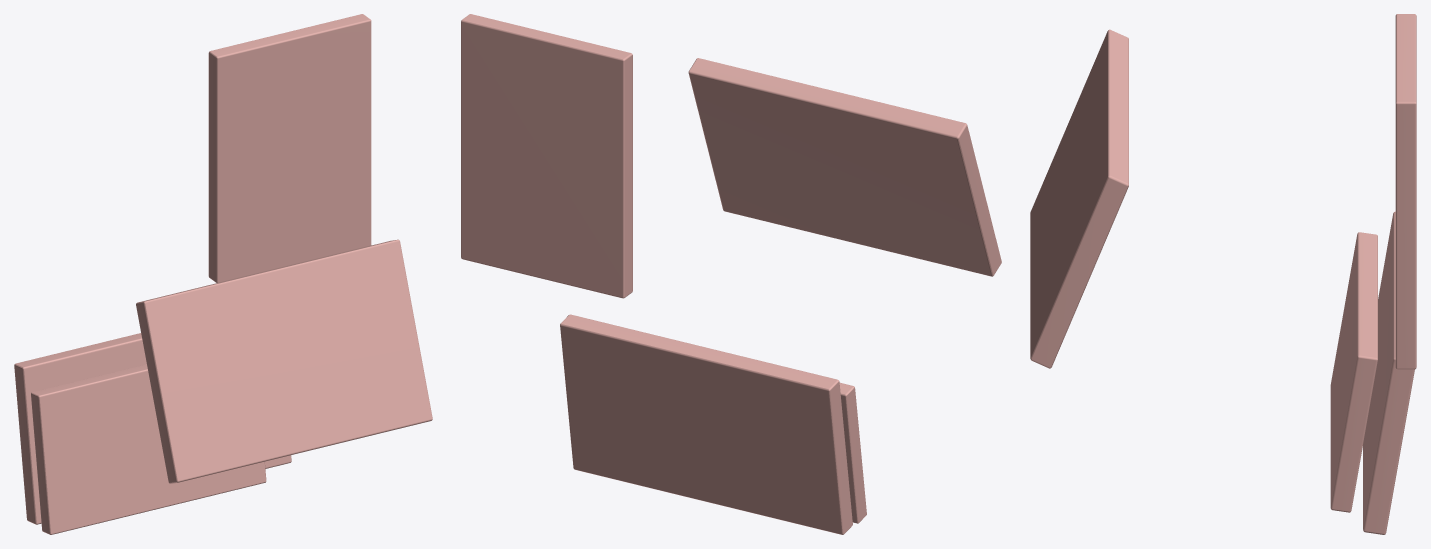
Rendered from Paintings.obj.
3 views of the same model, side by side, from view 1: azimuth 30°, elevation 25°; view 2: azimuth 150°, elevation 25°; view 3: azimuth 270°, elevation 25° (orthographic). The views are drawn at different scales.
Parts seen in each view (by area): view 1: Painting4 Eisel_and_Painting, Painting3 Paintings, Paintings Painting2, Paintings Painting1; view 2: Paintings Painting1, Painting3 Paintings, Painting4 Eisel_and_Painting, Paintings Painting2; view 3: Painting4 Eisel_and_Painting, Paintings Painting2, Paintings Painting1, Painting3 Paintings.
Part boxes in pixels (<box>): Painting4 Eisel_and_Painting: <box>136,239,432,483</box>; Painting3 Paintings: <box>208,14,371,282</box>; Paintings Painting2: <box>31,364,266,534</box>; Paintings Painting1: <box>14,333,291,524</box>; Paintings Painting1: <box>560,314,852,534</box>; Painting3 Paintings: <box>461,14,632,298</box>; Painting4 Eisel_and_Painting: <box>688,58,1001,276</box>; Paintings Painting2: <box>839,382,866,523</box>; Painting4 Eisel_and_Painting: <box>1030,29,1128,368</box>; Paintings Painting2: <box>1330,232,1377,512</box>; Paintings Painting1: <box>1363,211,1414,534</box>; Painting3 Paintings: <box>1395,14,1416,369</box>.
Size of the model in its own units: 4.05 by 4.57 by 3.29.
